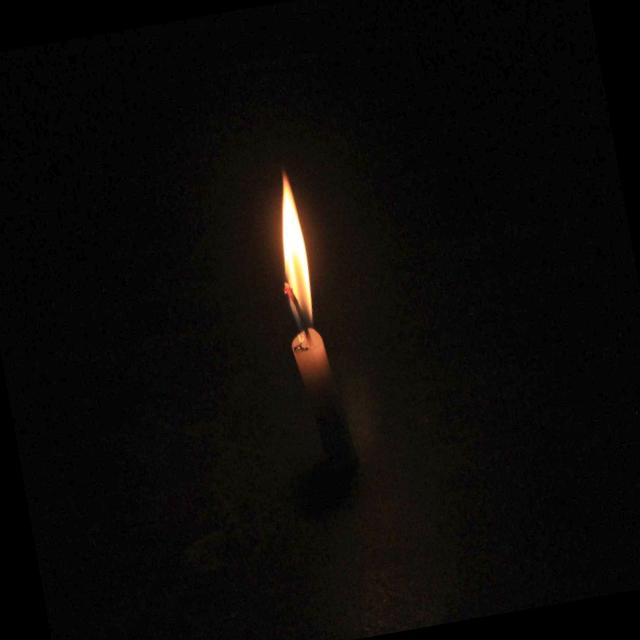Fire_Save: (260, 166, 334, 388)
